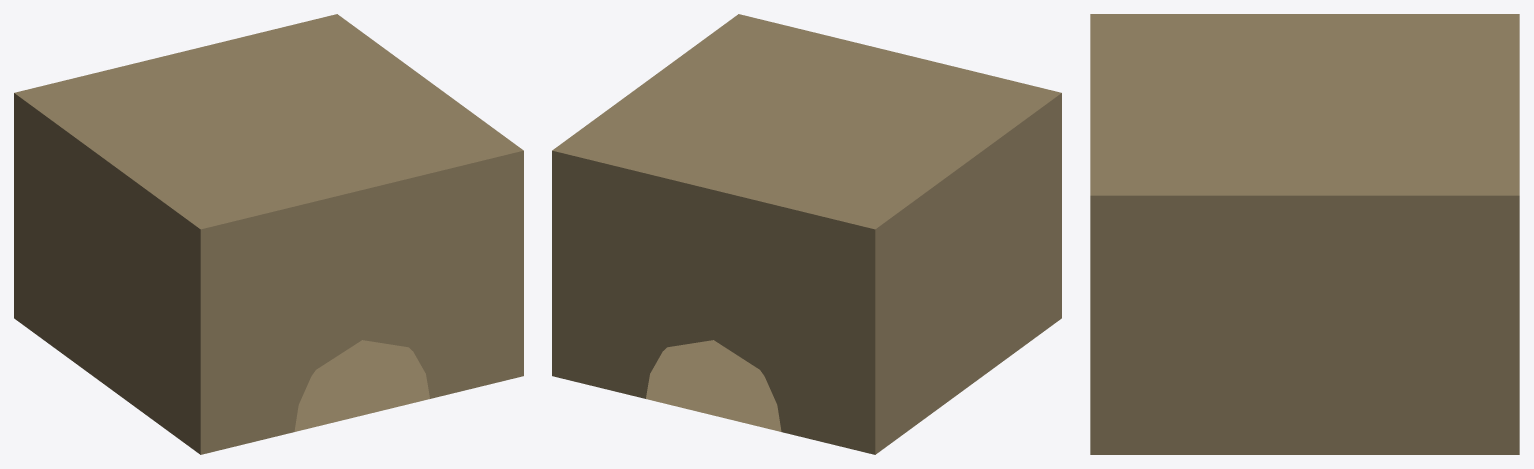
File: forest_ground_03.fbx
3 views of the same model, side by side, from view 1: azimuth 30°, elevation 25°; view 2: azimuth 150°, elevation 25°; view 3: azimuth 270°, elevation 25° (orthographic). The views are drawn at different scales.
Parts seen in each view (by area): view 1: pPlane2; view 2: pPlane2; view 3: pPlane2.
Boxes of the visible parts, <box> form: pPlane2: <box>14,14,523,454</box>; pPlane2: <box>552,14,1061,454</box>; pPlane2: <box>1090,14,1519,454</box>.
Bounding box in the file's own units: 30 × 20 × 30.
